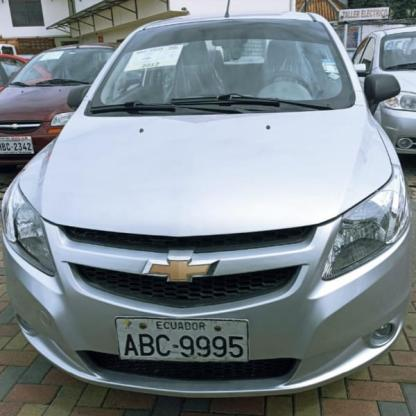Placa: (111, 314, 252, 367)
